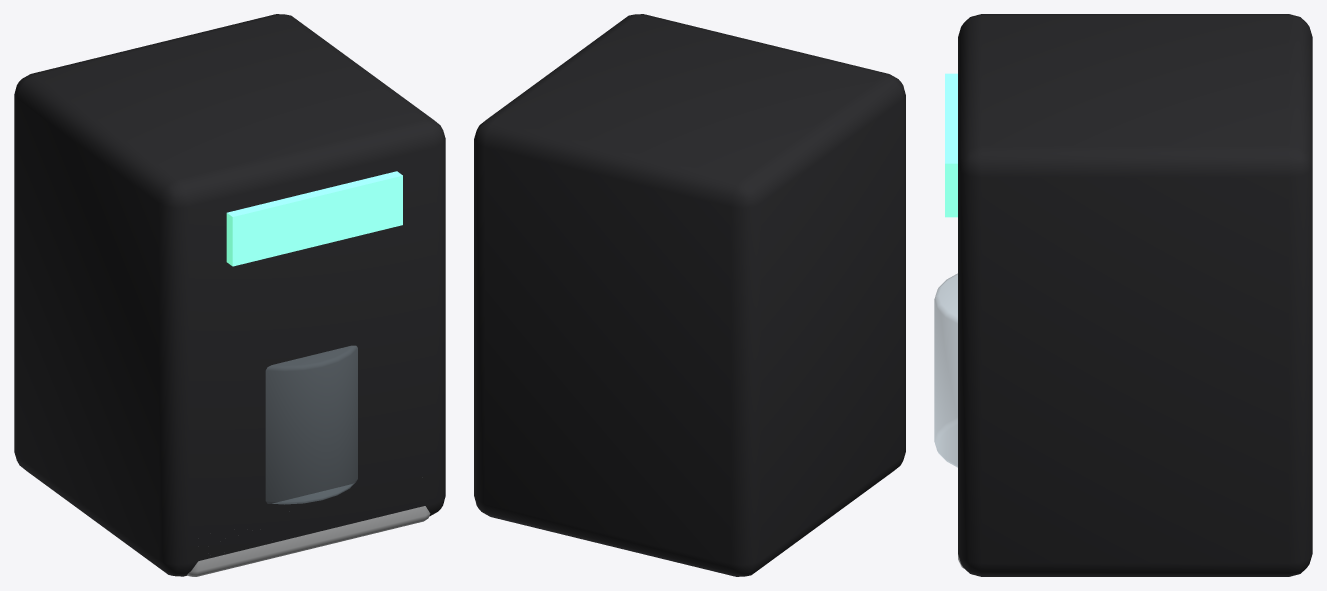
Rendered from coffee_machine.glb.
3 views of the same model, side by side, from view 1: azimuth 30°, elevation 25°; view 2: azimuth 150°, elevation 25°; view 3: azimuth 270°, elevation 25° (orthographic). The views are drawn at different scales.
Parts seen in each view (by area): view 1: Cube, Cylinder, Cube.002, Cube.001; view 2: Cube; view 3: Cube, Cylinder, Cube.002.
Boxes of the visible parts, left/top/right/bottom form: Cube: left=14, top=14, right=445, bottom=576; Cylinder: left=266, top=346, right=357, bottom=504; Cube.002: left=226, top=171, right=402, bottom=266; Cube.001: left=186, top=506, right=430, bottom=576; Cube: left=474, top=14, right=905, bottom=576; Cube: left=958, top=14, right=1312, bottom=576; Cylinder: left=934, top=273, right=957, bottom=467; Cube.002: left=945, top=73, right=957, bottom=217.
Bounding box in the file's own units: 0.3 × 0.4 × 0.32.
